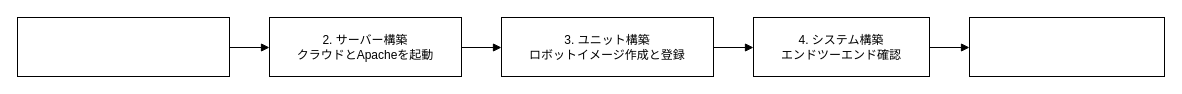
Some shapes in this 1182 by 94 pixel diagram are drawn without their labels. Each missing label, with the centre of its shape:
"1. 前提条件 ハードウェアとポートを確認" belongs at [123,46].
"5. コミッショニング ユニットを1項目ずつ受入" belongs at [1066,46].
